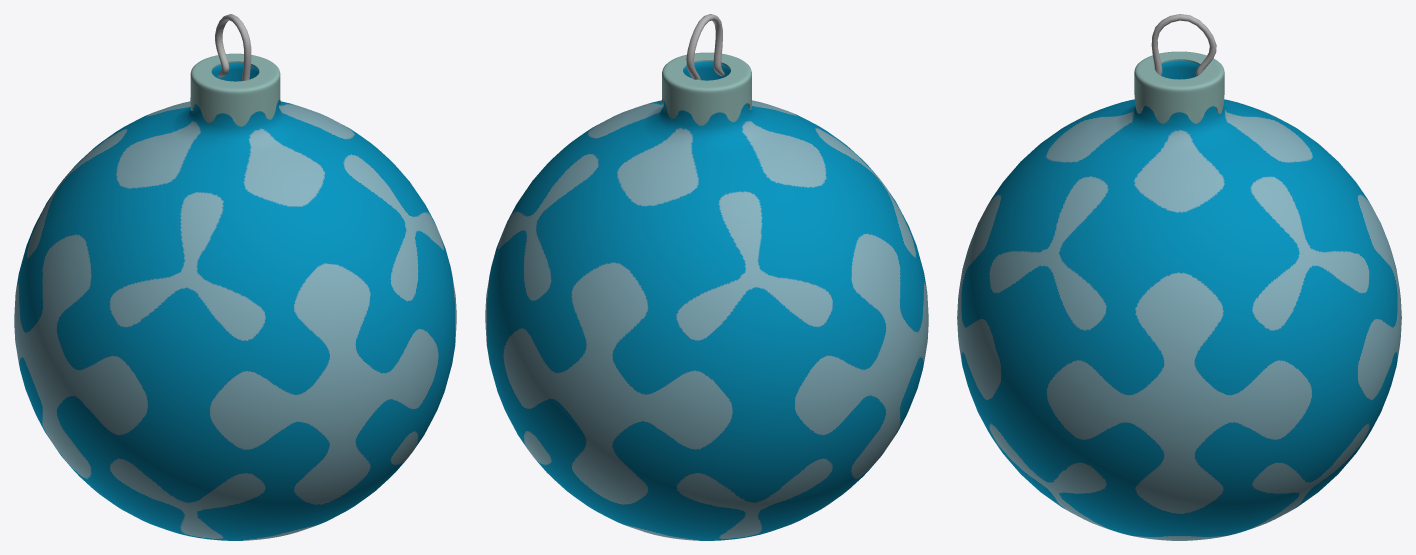
3 views of the same model, side by side, from view 1: azimuth 30°, elevation 25°; view 2: azimuth 150°, elevation 25°; view 3: azimuth 270°, elevation 25° (orthographic).
Parts seen in each view (by area): view 1: Sphere, Sphere.001, CubeOpen; view 2: Sphere, Sphere.001, CubeOpen; view 3: Sphere, Sphere.001, CubeOpen.
Boxes of the visible parts, x1,y1,x2,y2 form: Sphere: [14, 62, 456, 540]; Sphere.001: [190, 53, 280, 126]; CubeOpen: [215, 14, 251, 80]; Sphere: [485, 61, 928, 540]; Sphere.001: [662, 52, 751, 125]; CubeOpen: [686, 14, 724, 79]; Sphere: [957, 60, 1401, 540]; Sphere.001: [1134, 51, 1224, 123]; CubeOpen: [1151, 14, 1216, 75].
Size of the model in its own units: 0.1667 by 0.2095 by 0.1667.
